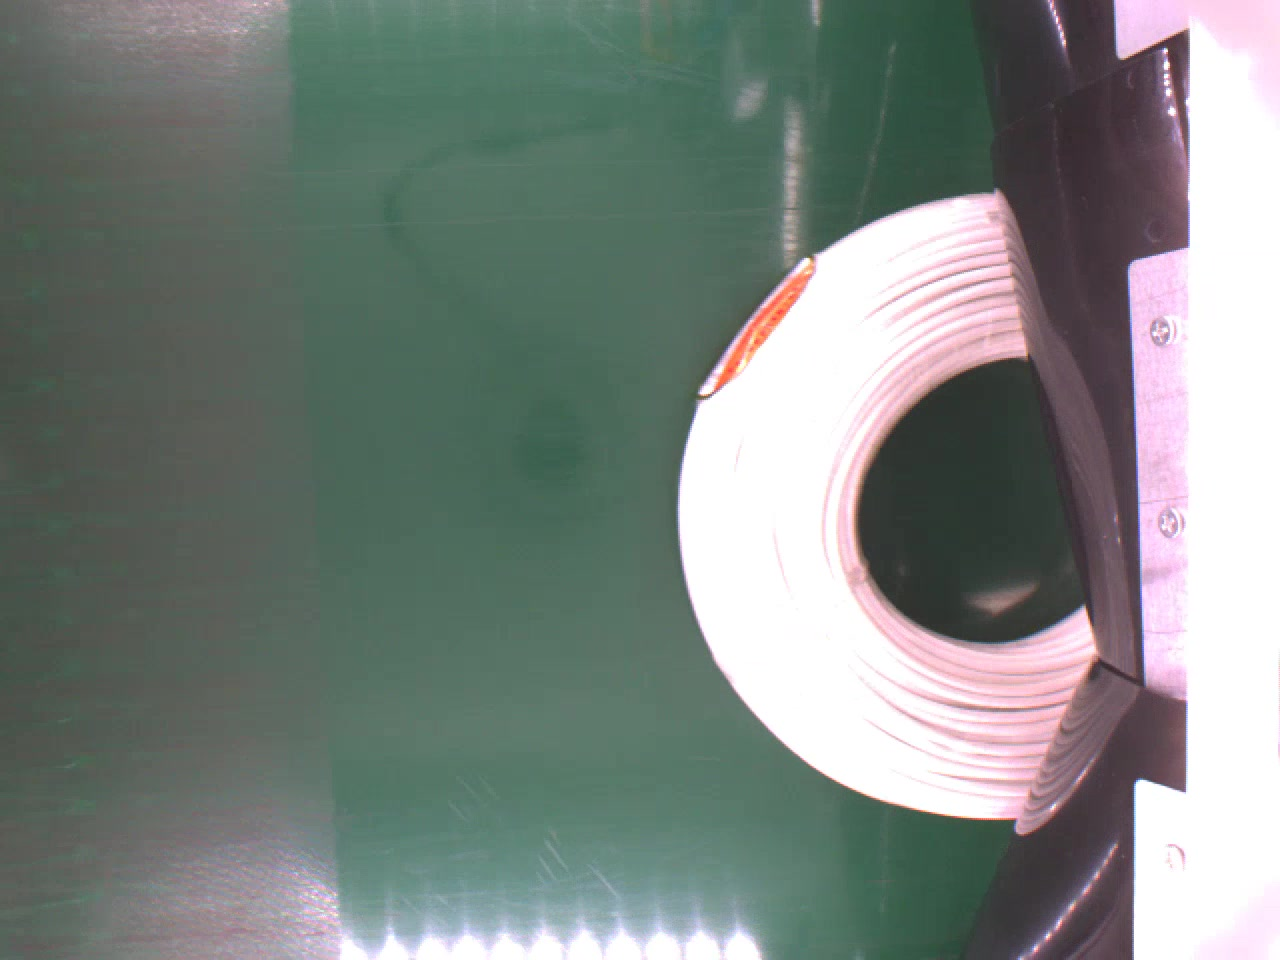white: (670, 187, 1102, 822)
